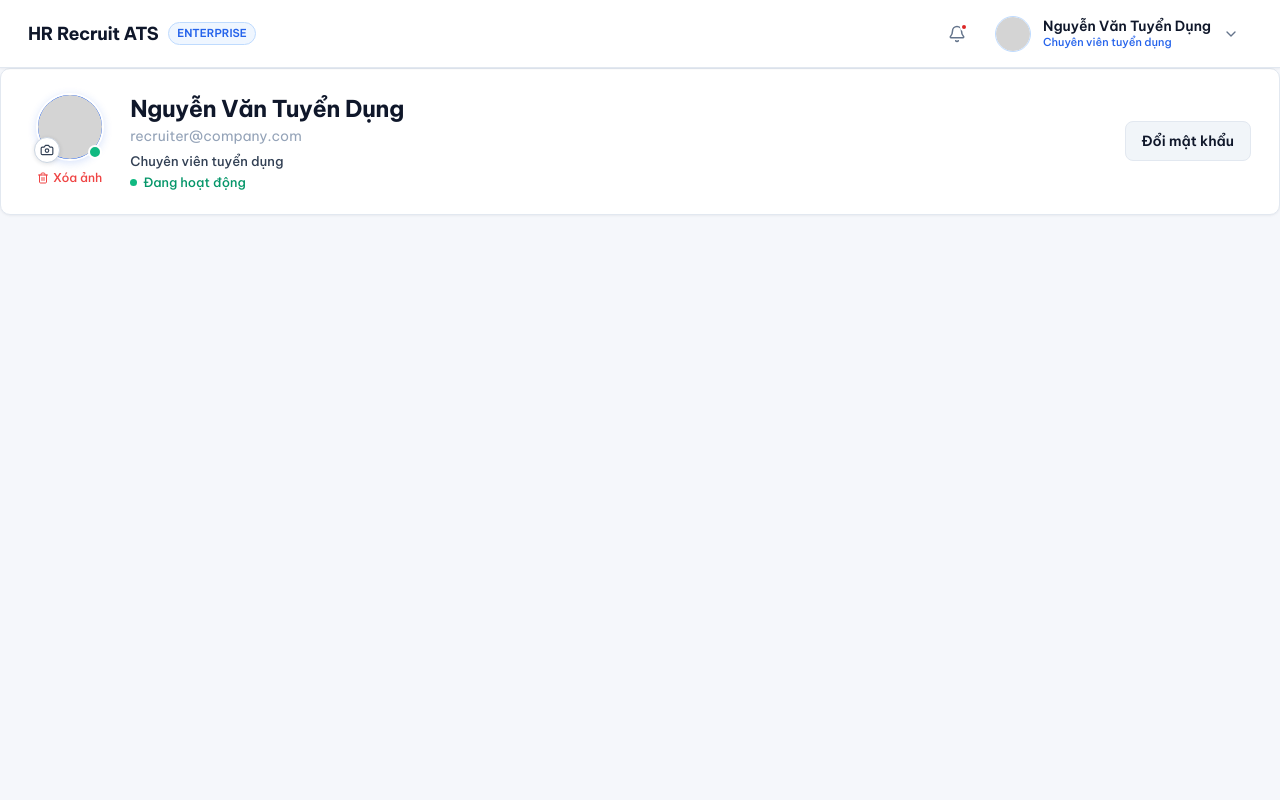
Test: Avatar Upload & ProfileHeader / Header Integration (S2-03) › AV-19: DELETE avatar updates real UI state: image disappears from Profile & Header, initials appear, delete button vanishes
Note: Click delete avatar
Click the button with test id "delete-avatar-btn": (70, 178) x1=29 y1=167 x2=110 y2=190
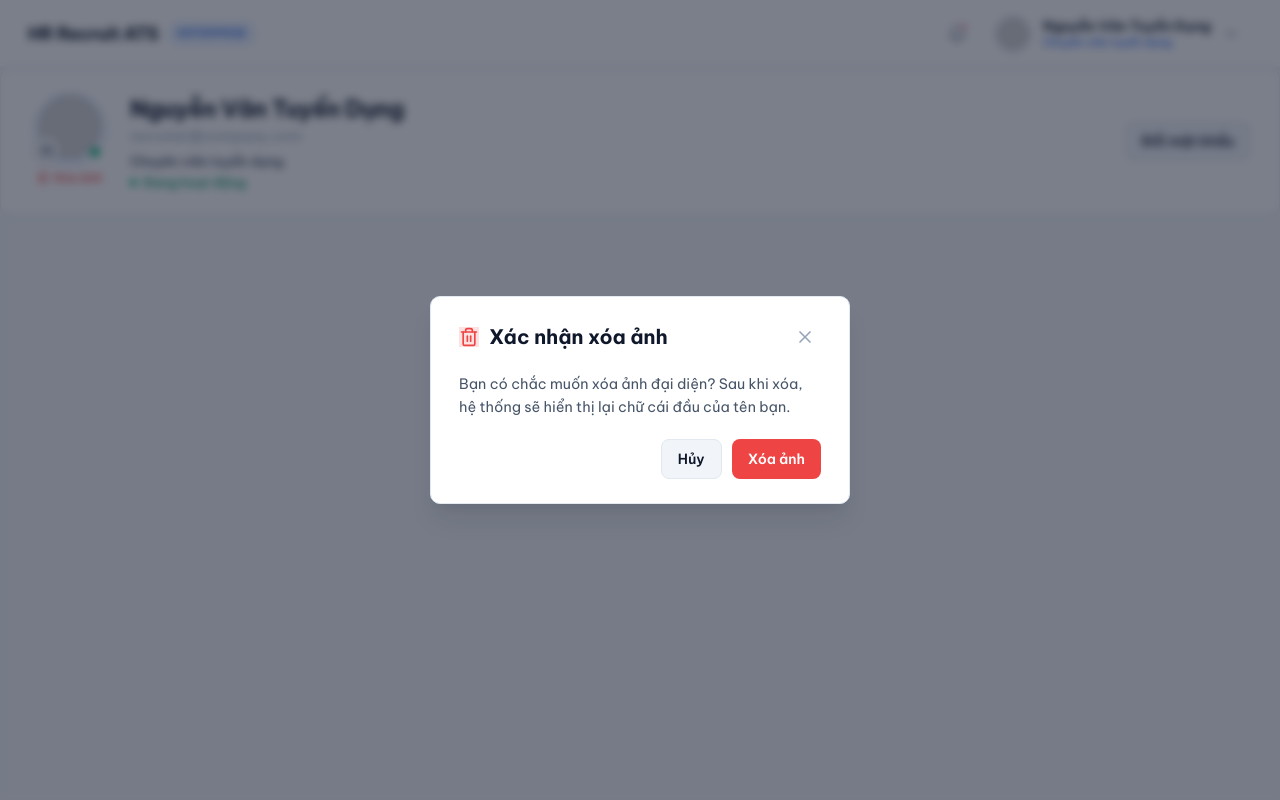
Click the button with test id "confirm-delete-avatar-btn": (776, 459) x1=732 y1=439 x2=821 y2=479
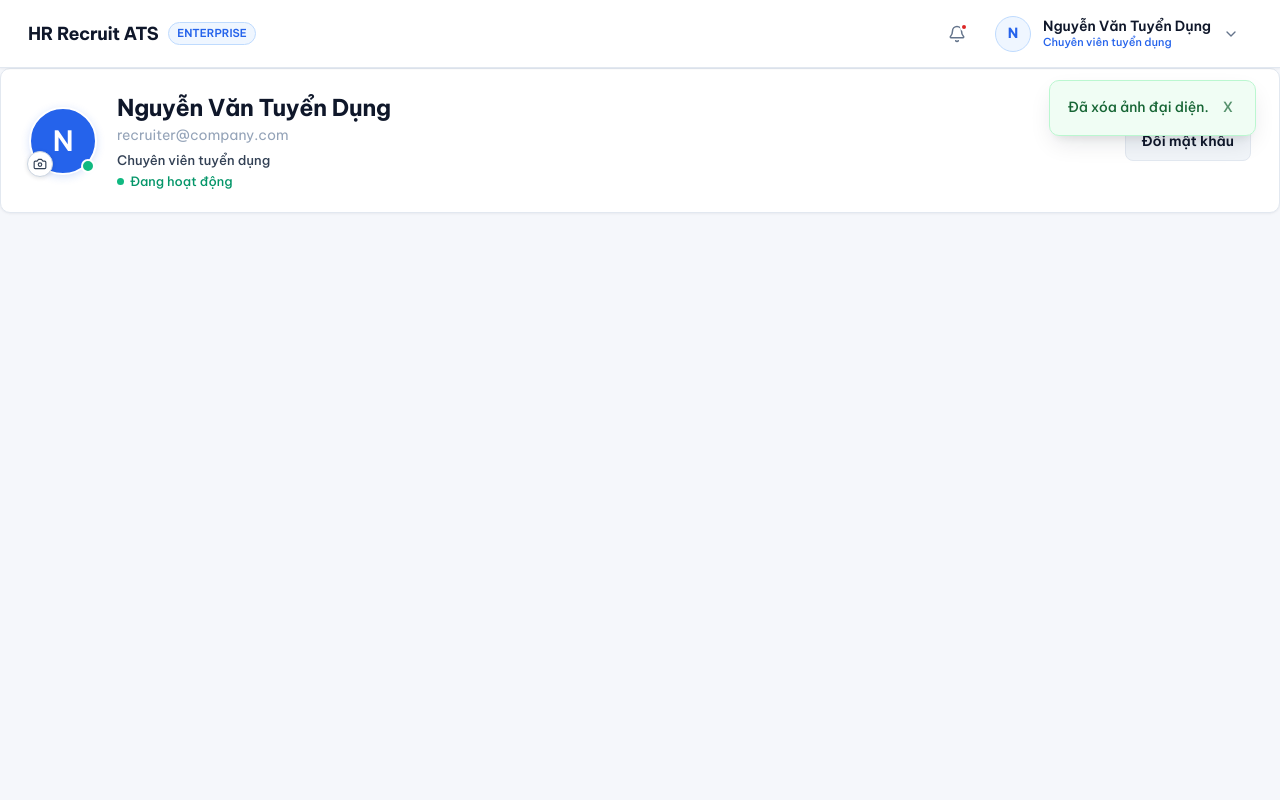
Result: the button with test id "delete-avatar-btn" is gone
Result: the element with test id "toast-success" shows "Đã xóa ảnh đại diện." at x1=1068 y1=98 x2=1209 y2=116
